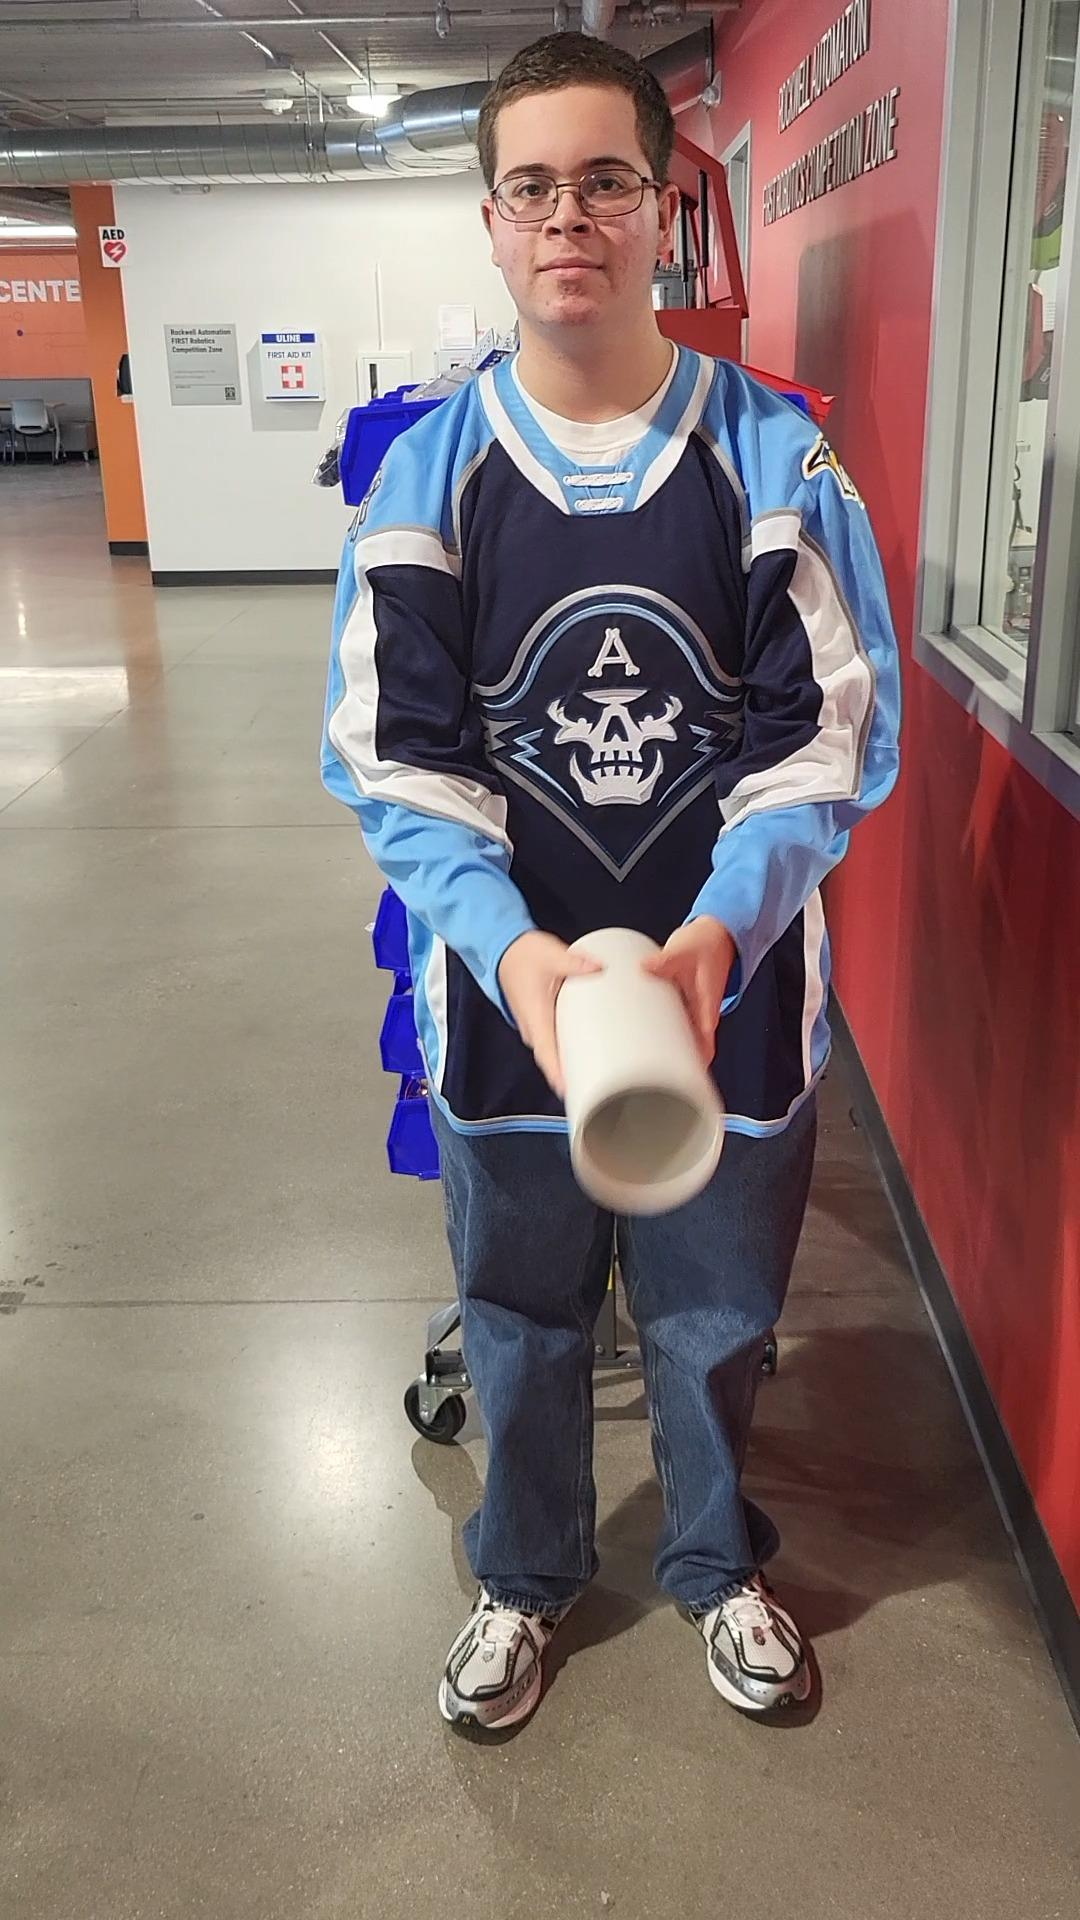coral: (550, 918, 733, 1207)
